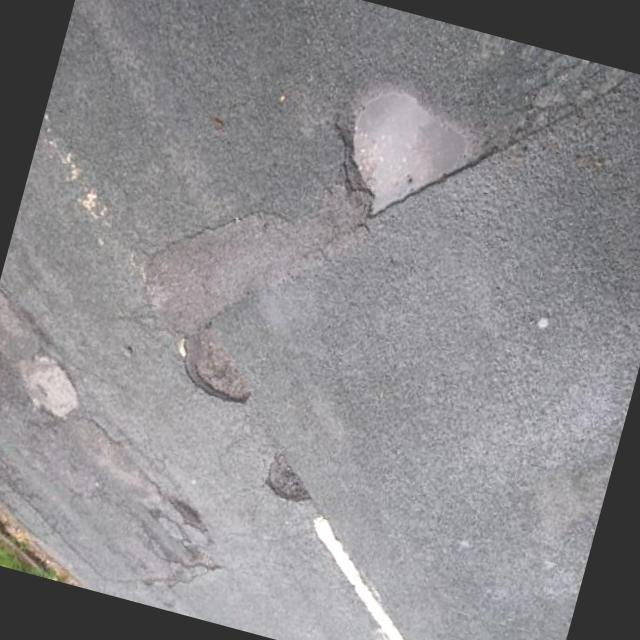pothole: (308, 72, 510, 253), (166, 322, 268, 417), (5, 346, 93, 430), (254, 452, 326, 516)
